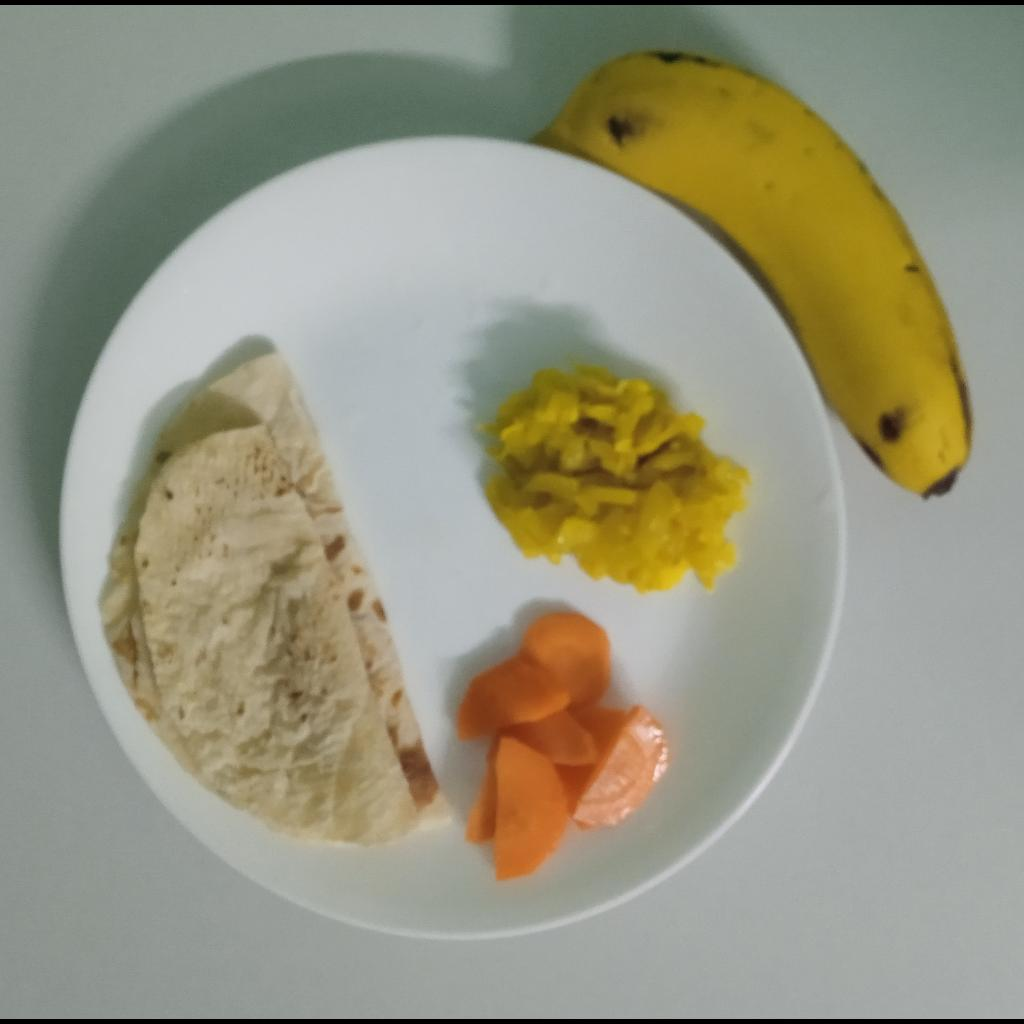banana: (526, 49, 978, 501)
carrot: (457, 609, 667, 882)
papaya: (473, 358, 753, 596)
ruti: (94, 346, 445, 846)
